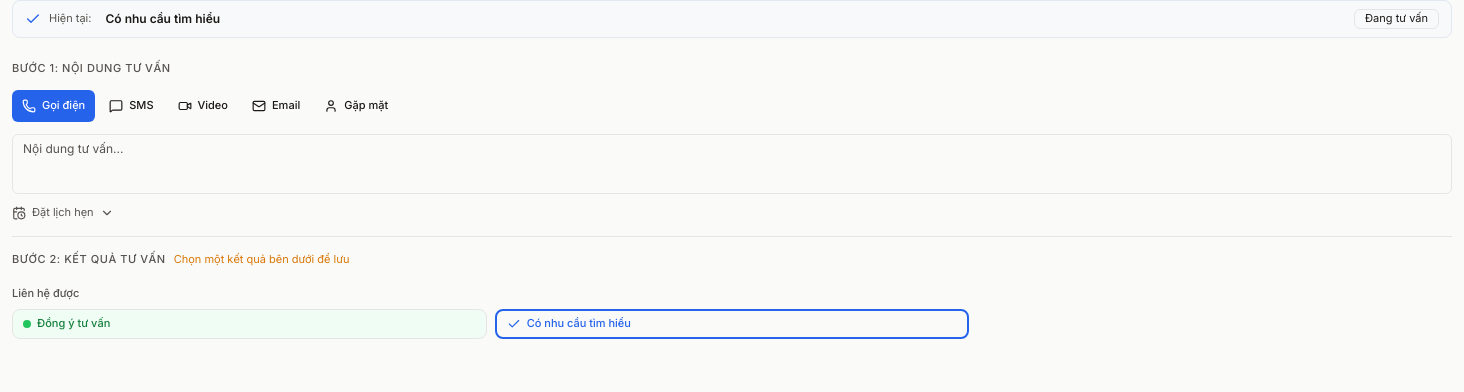
Test: QuickConsultationSectionV2 › schedule is collapsed by default
This screenshot has width=1464, height=392.
Check: the text "Đặt lịch hẹn" is shown, box [32,206,94,220]
Check: the text "Ngày mai" is not shown
// Click to expand
Step 1. Click the button "Đặt lịch hẹn" → (63, 213), box [12,206,114,220]
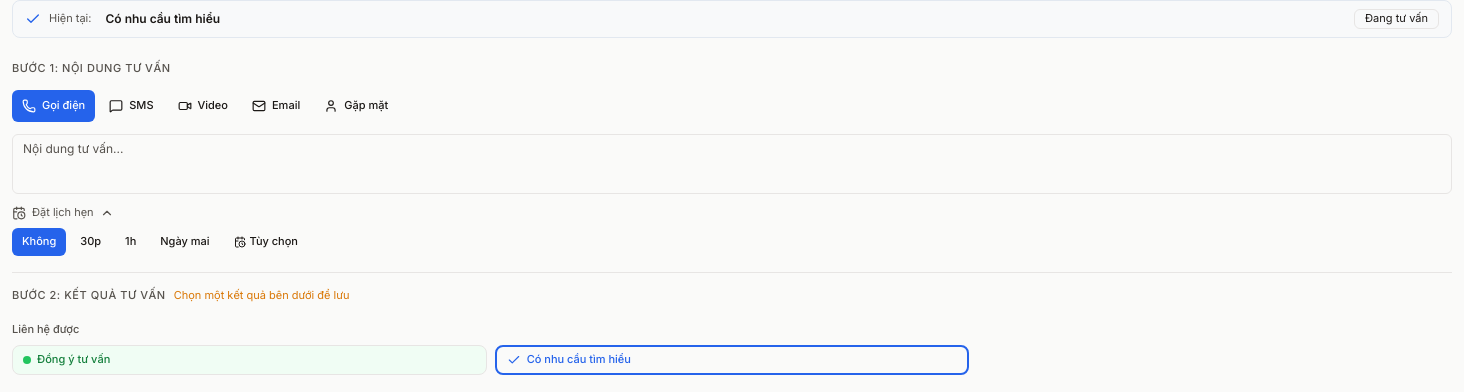
Check: the radio button "Ngày mai" is shown, box [150,228,220,256]
